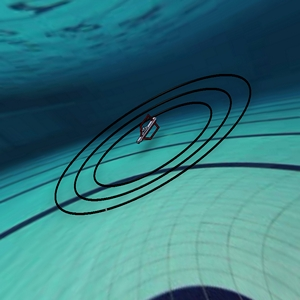circle: (34, 49, 261, 230)
submarine: (122, 107, 171, 148)
